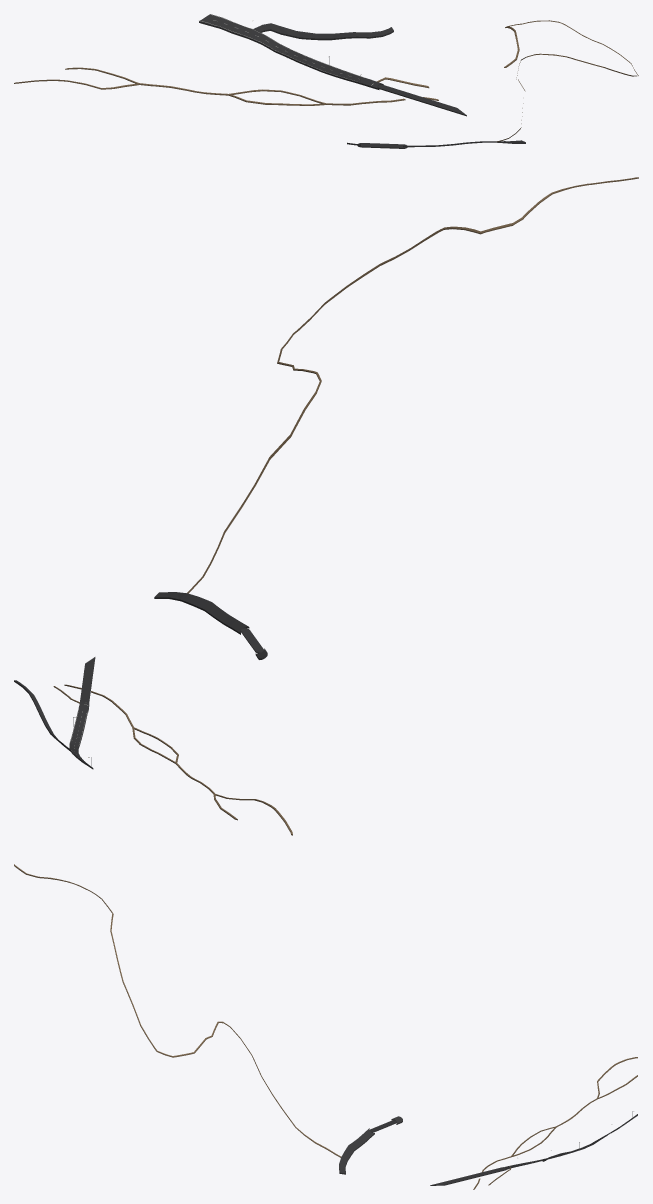
The model's file is 16-54724-29750.e64bca4d.glb.
3 renders of one model, top to bottom at view 1: azimuth 30°, elevation 25°; view 2: azimuth 150°, elevation 25°; view 3: azimuth 270°, elevation 25°, orthographic. The views are drawn at different scales.
Bounding box in the file's own units: 264 × 246 × 584.
